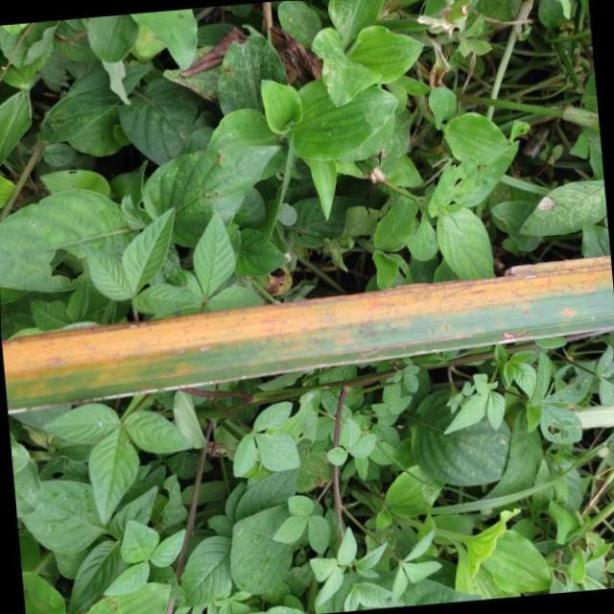Megnesium: (0, 251, 614, 413)
